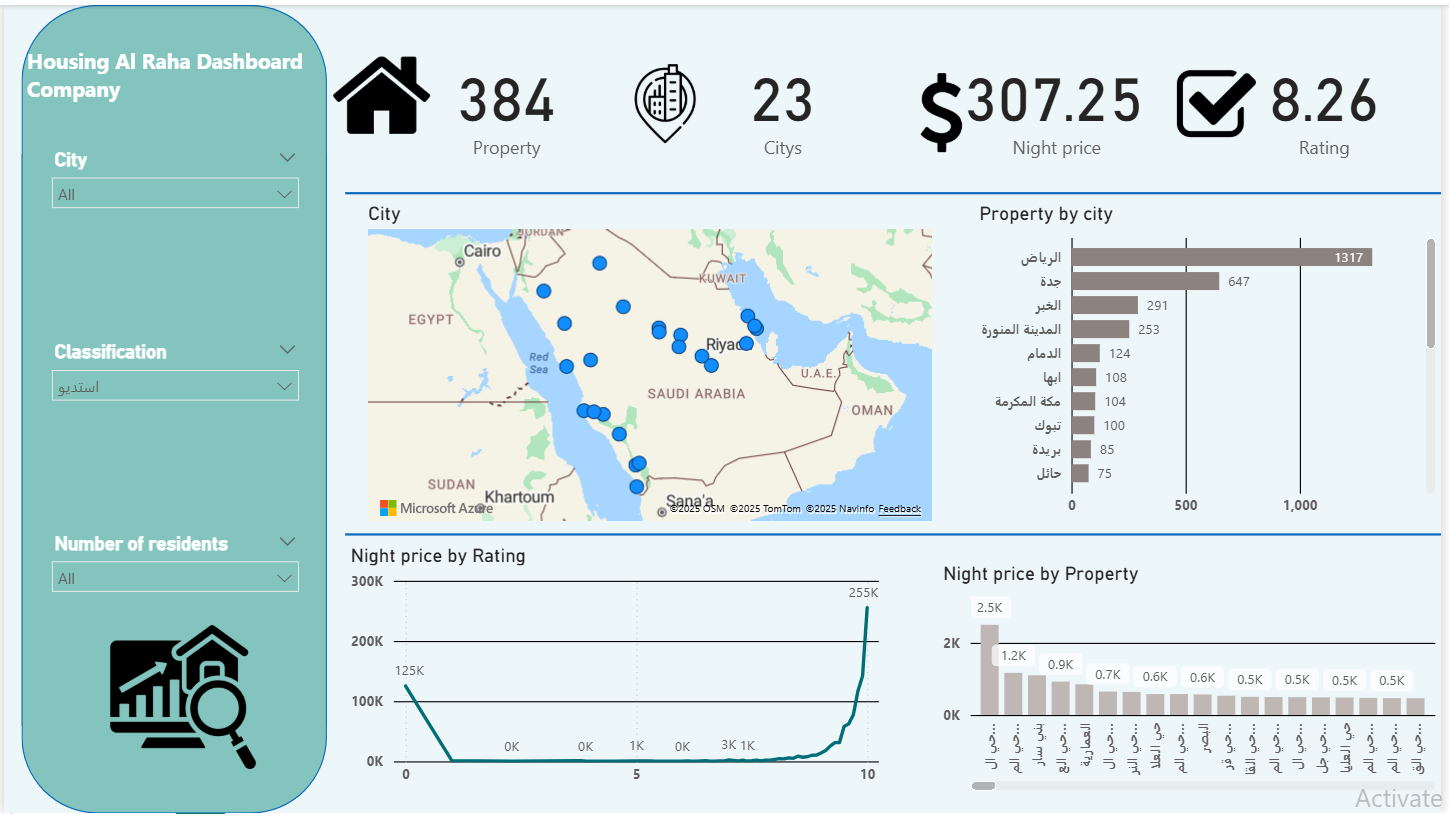

This screenshot's page, from the dashboard's own definition file:
{"tool":"powerbi","page":{"name":"Housing Al Raha ","canvas":[1280,720],"ordinal":0},"visuals":[{"type":"shape","box":[16,0,272,720],"z":0},{"type":"shape","box":[304,144,976,48],"z":1000},{"type":"shape","box":[304,448,976,48],"z":2000},{"type":"card","fields":{"Values":["Count(real_estate_rental_prices.اسم العقار)"]},"box":[352,32,192,112],"z":3000},{"type":"card","fields":{"Values":["Count(real_estate_rental_prices.المدينة)"]},"box":[597.3,32,192,112],"z":4000},{"type":"card","fields":{"Values":["Avg(real_estate_rental_prices.سعر الليلة)"]},"box":[832,32,208,112],"z":5000},{"type":"card","fields":{"Values":["Avg(real_estate_rental_prices.التقييم)"]},"box":[1072,32,208,112],"z":6000},{"type":"azureMap","fields":{"Category":["real_estate_rental_prices.المدينة"]},"box":[320,176,512,288],"z":7000},{"type":"lineChart","fields":{"Category":["real_estate_rental_prices.التقييم"],"Y":["Sum(real_estate_rental_prices.سعر الليلة)"]},"box":[304,480,480,224],"z":8000},{"type":"barChart","fields":{"Category":["real_estate_rental_prices.المدينة"],"Y":["CountNonNull(real_estate_rental_prices.اسم العقار)"]},"box":[864,176,416,288],"z":9000},{"type":"lineStackedColumnComboChart","fields":{"Y":["Avg(real_estate_rental_prices.سعر الليلة)"],"Category":["real_estate_rental_prices.الحي"]},"box":[832,496,448,208],"z":10000},{"type":"slicer","fields":{"Values":["real_estate_rental_prices.المدينة"]},"box":[32,122.7,240,144],"z":11000},{"type":"slicer","fields":{"Values":["real_estate_rental_prices.التصنيف"]},"box":[32,293.3,240,144],"z":12000},{"type":"slicer","fields":{"Values":["real_estate_rental_prices.عدد المقيمين"]},"box":[32,464,240,144],"z":13000},{"type":"textbox","box":[16,32,304,64],"z":14000},{"type":"image","box":[288,32,96,96],"z":15000},{"type":"image","box":[549.3,48,80,80],"z":16000},{"type":"image","box":[794.7,48,80,96],"z":17000},{"type":"image","box":[1040,48,80,80],"z":18000},{"type":"image","box":[64,544,192,144],"z":19000}]}

Visuals, with their boxes in screenshot pixels (x1, y1, x2, y2), scaled from the page's 1280x720 canvas onto the 1449x814 screenshot:
shape: locate(18, 0, 326, 813)
shape: locate(344, 163, 1448, 217)
shape: locate(344, 506, 1448, 561)
card - Count(real_estate_rental_prices.اسم العقار): locate(398, 36, 616, 163)
card - Count(real_estate_rental_prices.المدينة): locate(676, 36, 894, 163)
card - Avg(real_estate_rental_prices.سعر الليلة): locate(942, 36, 1177, 163)
card - Avg(real_estate_rental_prices.التقييم): locate(1214, 36, 1448, 163)
azureMap - real_estate_rental_prices.المدينة: locate(362, 199, 942, 525)
lineChart - real_estate_rental_prices.التقييم x Sum(real_estate_rental_prices.سعر الليلة): locate(344, 543, 888, 796)
barChart - real_estate_rental_prices.المدينة x CountNonNull(real_estate_rental_prices.اسم العقار): locate(978, 199, 1448, 525)
lineStackedColumnComboChart - Avg(real_estate_rental_prices.سعر الليلة) x real_estate_rental_prices.الحي: locate(942, 561, 1448, 796)
slicer - real_estate_rental_prices.المدينة: locate(36, 139, 308, 302)
slicer - real_estate_rental_prices.التصنيف: locate(36, 332, 308, 494)
slicer - real_estate_rental_prices.عدد المقيمين: locate(36, 525, 308, 687)
textbox: locate(18, 36, 362, 109)
image: locate(326, 36, 435, 145)
image: locate(622, 54, 712, 145)
image: locate(900, 54, 990, 163)
image: locate(1177, 54, 1268, 145)
image: locate(72, 615, 290, 778)
